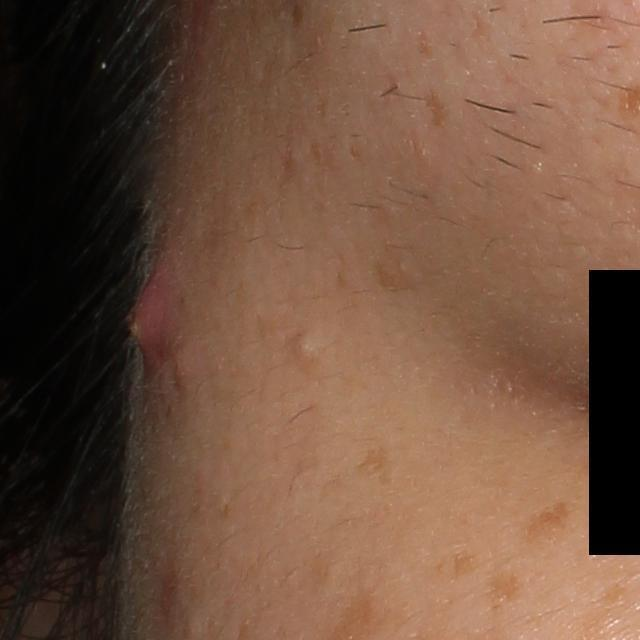comedo: (289, 333, 319, 363)
melasma: (516, 495, 578, 551), (403, 68, 457, 132), (478, 566, 526, 619), (352, 443, 399, 493), (375, 256, 410, 294), (448, 547, 483, 584)
